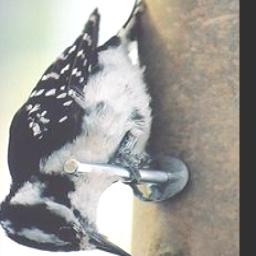Woodpecker: (0, 0, 163, 256)
